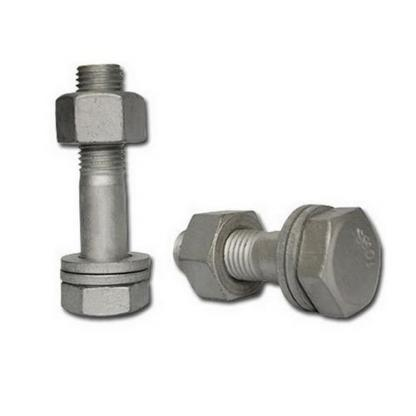FOD: (56, 56, 159, 325), (55, 89, 148, 151)
